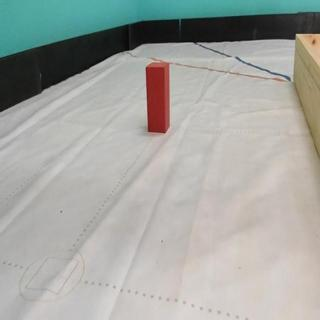redbox: (145, 61, 170, 133)
